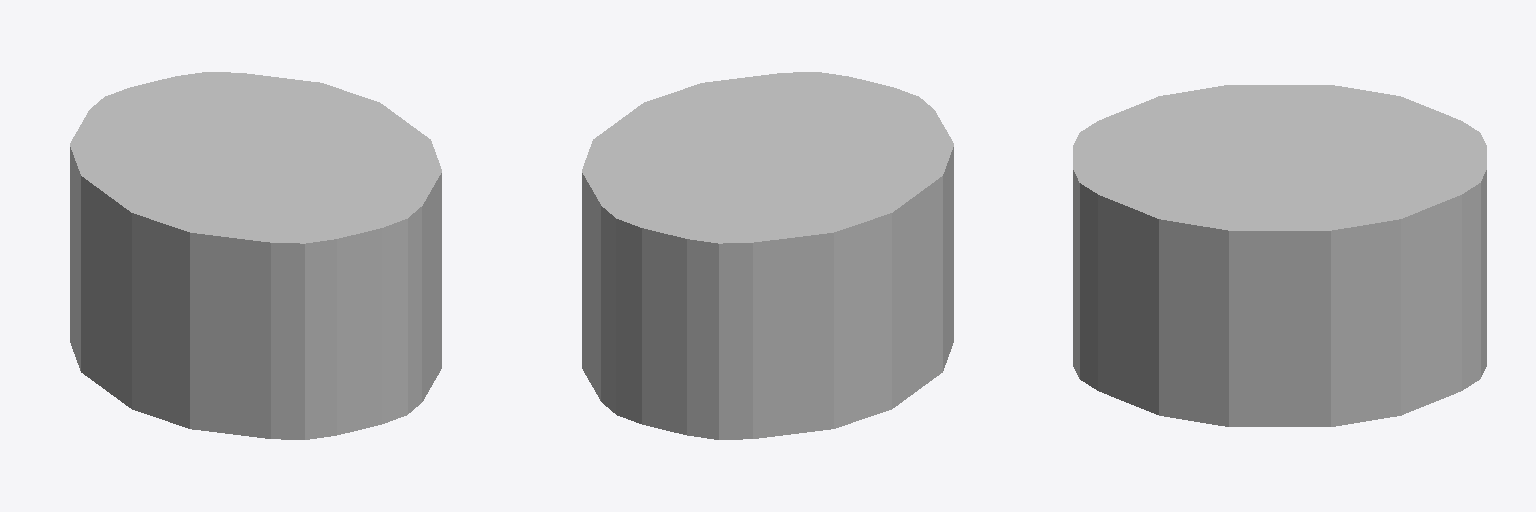
The model's file is BodyPhysical.obj.
3 renders of one model, left to right at view 1: azimuth 30°, elevation 25°; view 2: azimuth 150°, elevation 25°; view 3: azimuth 270°, elevation 25°, orthographic.
Parts seen in each view (by area): view 1: Body76; view 2: Body76; view 3: Body76.
Part boxes in pixels (bbox=[...]): Body76: bbox=[70, 72, 441, 439]; Body76: bbox=[582, 72, 953, 439]; Body76: bbox=[1073, 85, 1486, 426].
Bounding box in the file's own units: 0.1195 × 0.075 × 0.1433.